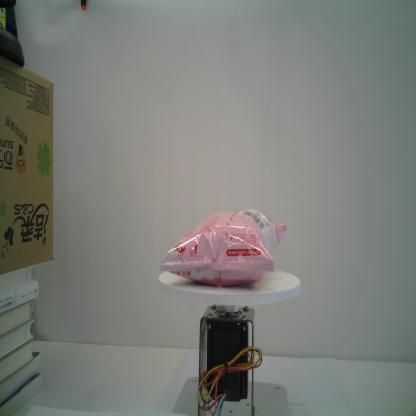Puffed Food: (160, 207, 286, 288)
